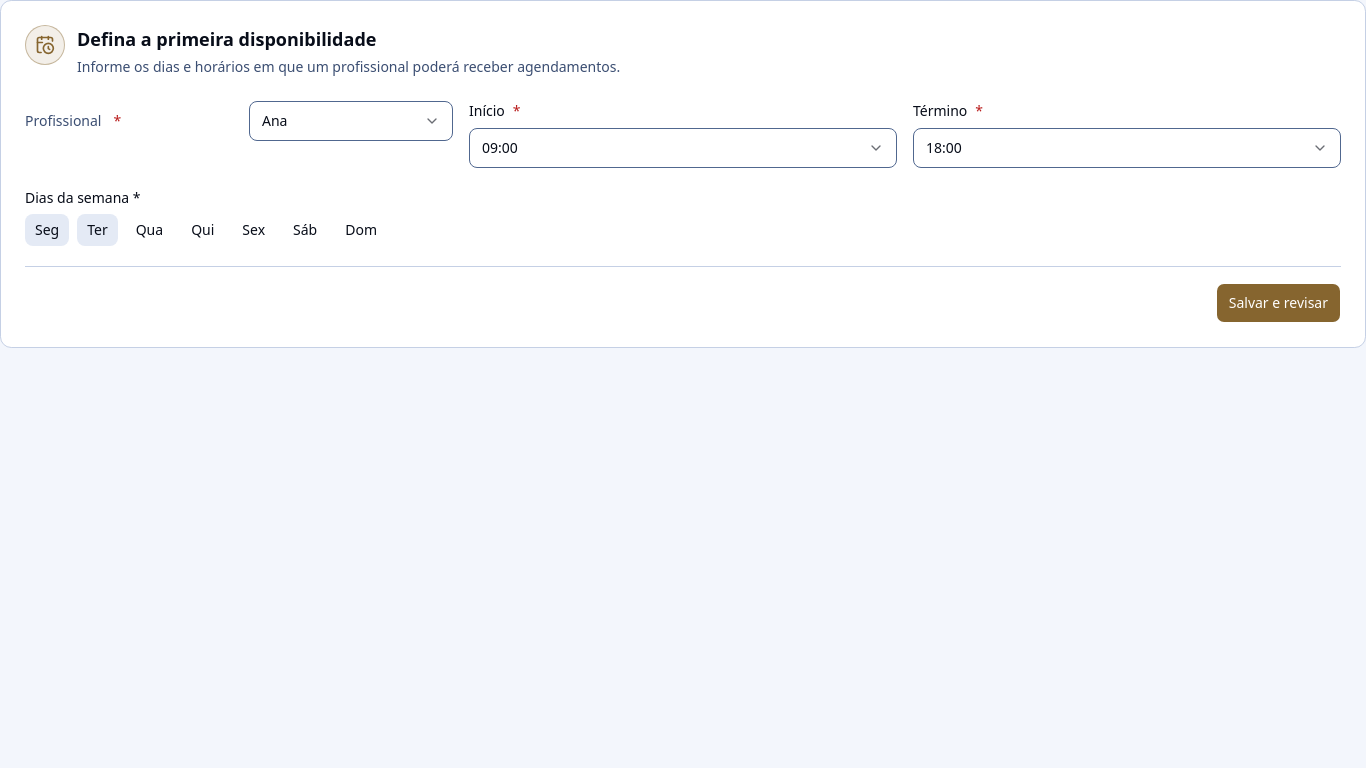
Scenario: onboarding availability step › requires the ending time to be later than the starting time
Step 1. Click the dropdown named "Início" → (500, 148), box [469,128,897,168]
(page scrolled)
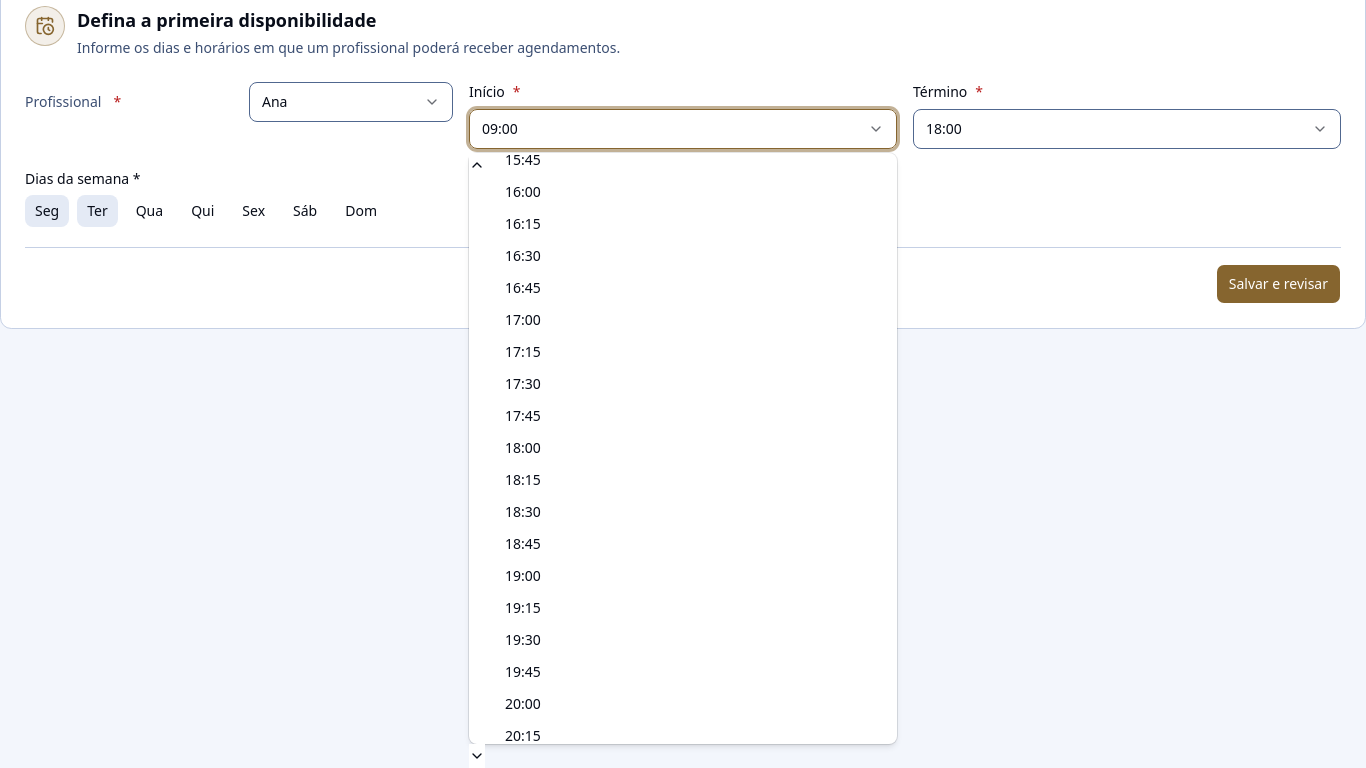
Step 2. Click the option "18:00" → (523, 448), box [505,438,541,457]
(page scrolled)
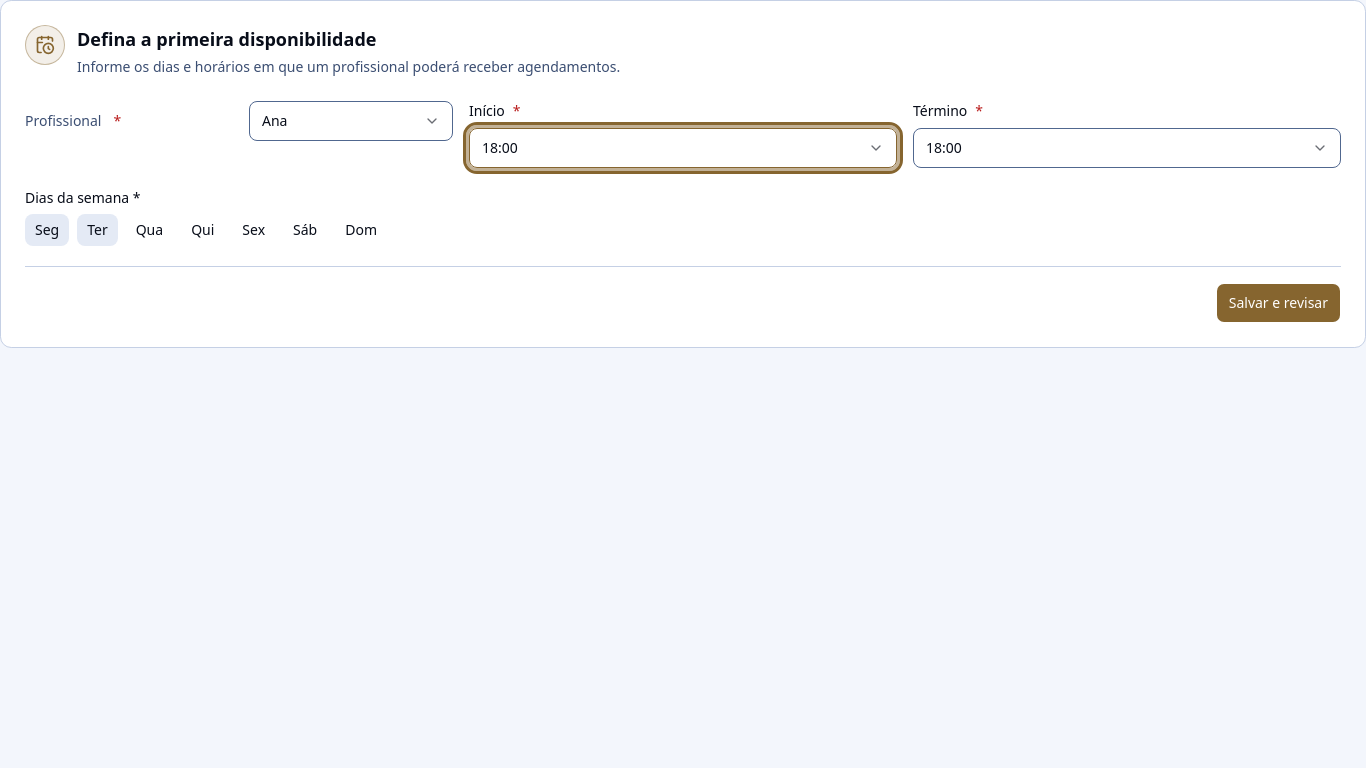
Step 3. Click the button "Salvar e revisar" → (1278, 303), box [1216,283,1341,323]
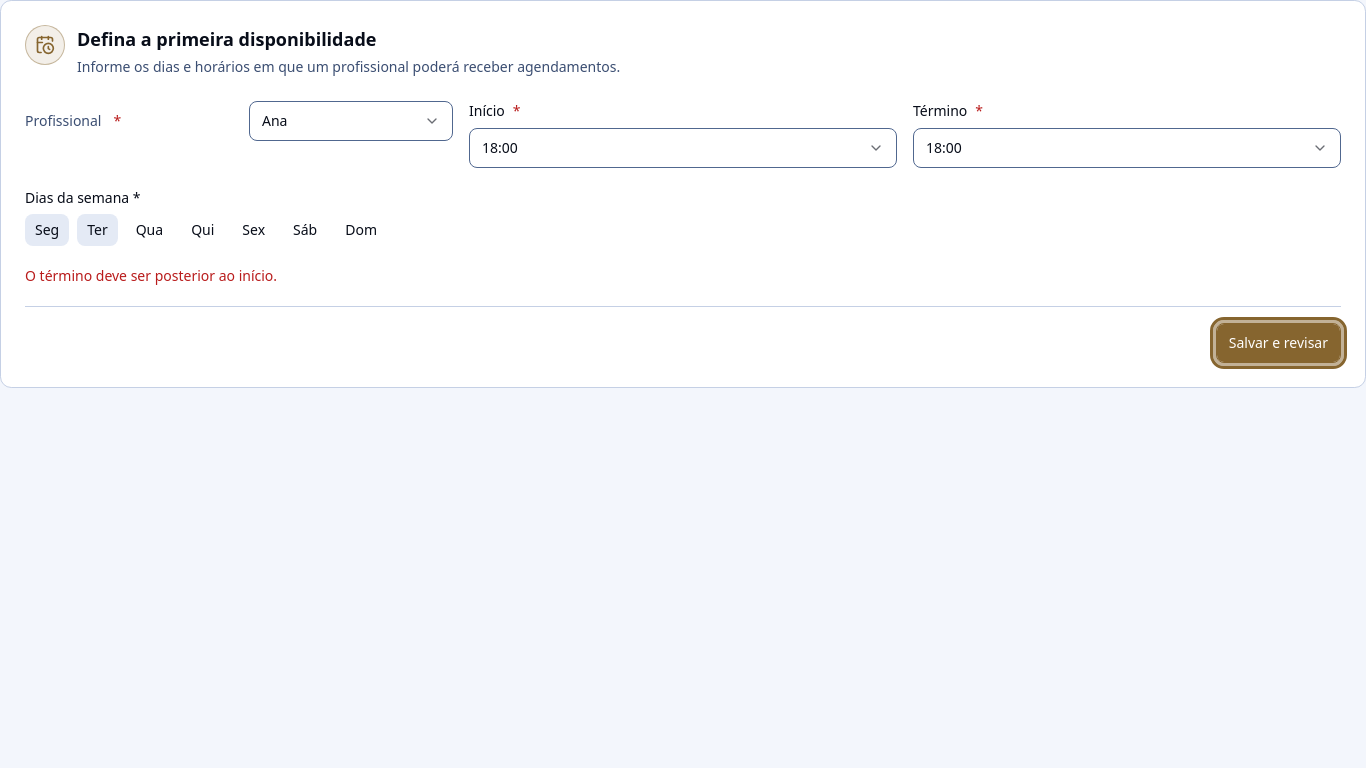
Expected: the message reads "O término deve ser posterior ao início.", [25,266,277,285]
